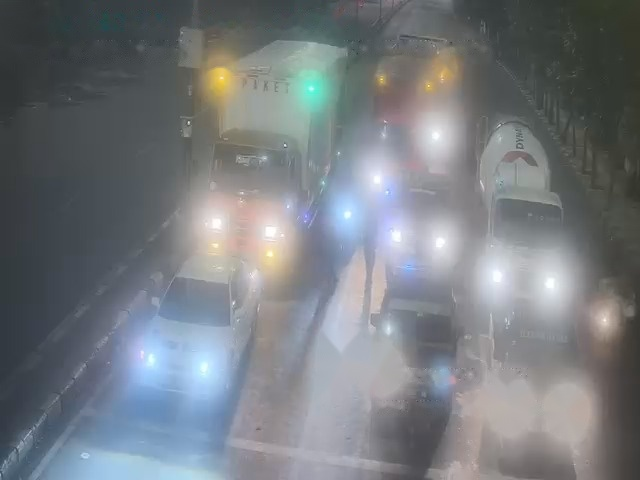Mobil: (152, 245, 252, 392), (368, 260, 456, 393), (490, 305, 583, 426), (389, 181, 448, 274)
Truk: (210, 34, 334, 254), (475, 115, 568, 304), (369, 18, 462, 192)
